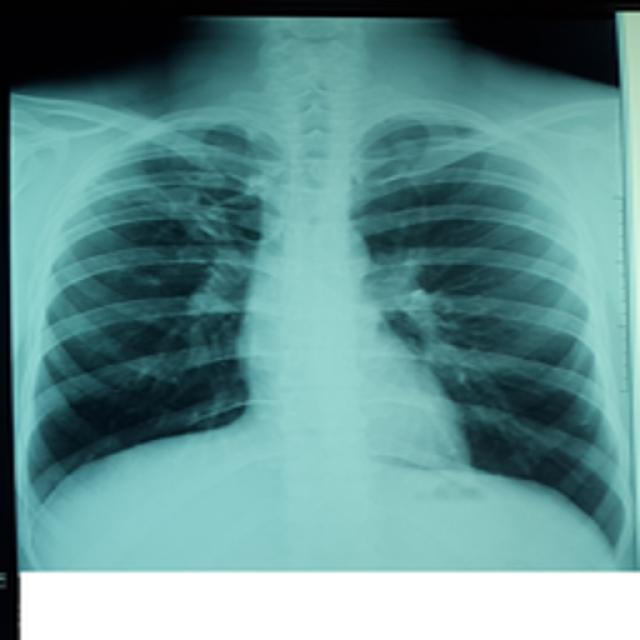tuberculosis: (1, 0, 640, 630)
